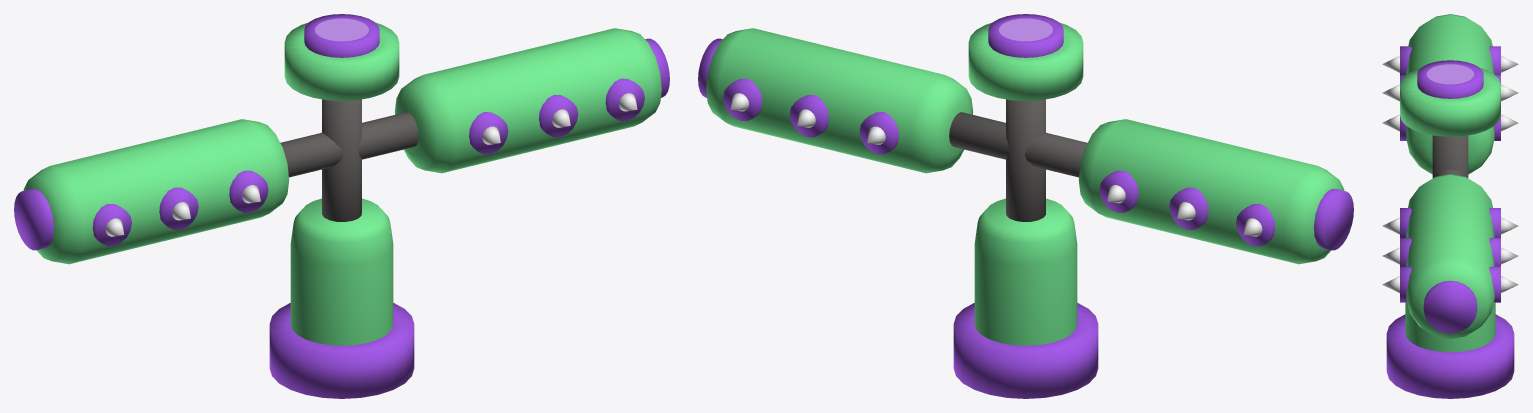
Rendered from Obstacle 10 V4.fbx.
3 renders of one model, left to right at view 1: azimuth 30°, elevation 25°; view 2: azimuth 150°, elevation 25°; view 3: azimuth 270°, elevation 25°, orthographic. The views are drawn at different scales.
Parts seen in each view (by area): view 1: O10 Part 1, O10 Part 2; view 2: O10 Part 1, O10 Part 2; view 3: O10 Part 1, O10 Part 2.
Boxes of the visible parts, bbox=[...] form: O10 Part 1: bbox=[14, 28, 669, 264]; O10 Part 2: bbox=[269, 14, 414, 398]; O10 Part 1: bbox=[698, 28, 1353, 264]; O10 Part 2: bbox=[953, 14, 1098, 398]; O10 Part 1: bbox=[1382, 14, 1518, 339]; O10 Part 2: bbox=[1386, 60, 1514, 398].
Bounding box in the file's own units: 225 × 116 × 48.44.
Materials: 1 (1 with a texture image).
